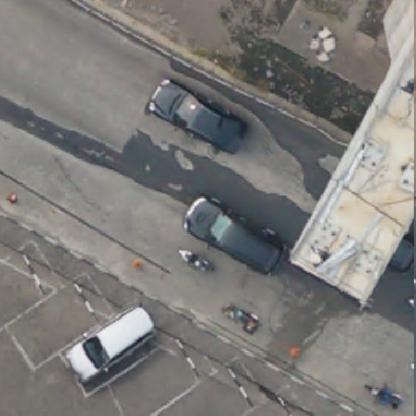car: (182, 196, 287, 280), (150, 78, 246, 154), (67, 308, 156, 373)
motorcycle: (212, 299, 265, 338), (179, 248, 218, 283), (364, 380, 405, 412)
